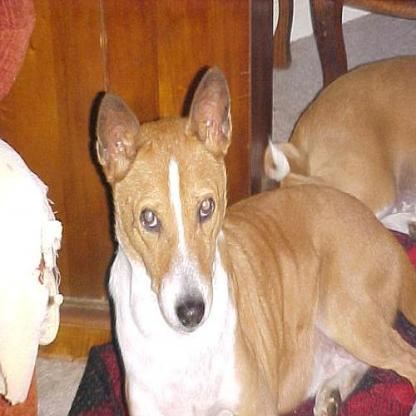basenji: (94, 65, 414, 412), (259, 54, 414, 216)
